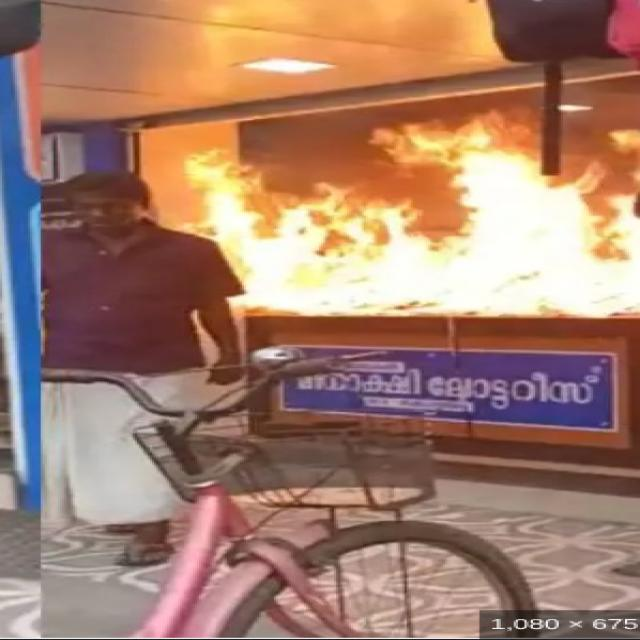fire: (180, 110, 640, 314)
